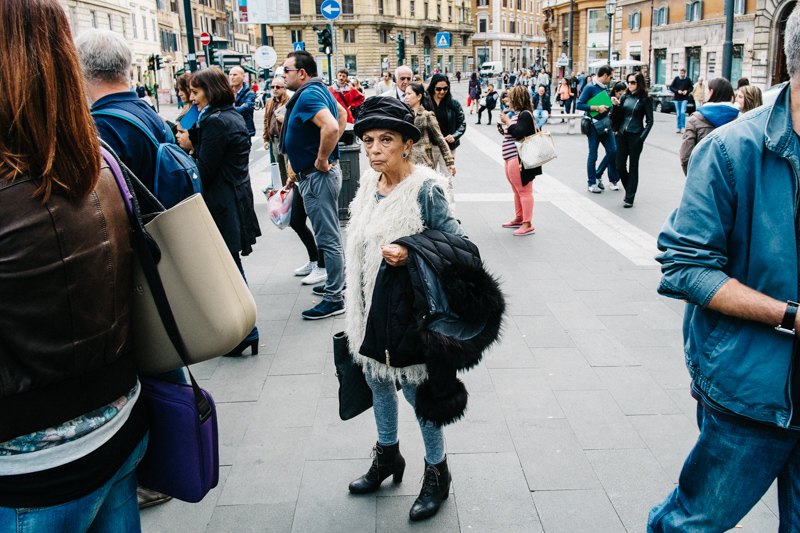person: (1, 1, 173, 533), (645, 1, 800, 533), (326, 92, 515, 525), (272, 48, 363, 322), (73, 30, 205, 216), (180, 64, 265, 253), (490, 84, 563, 243), (576, 61, 630, 197), (612, 69, 657, 214), (671, 70, 751, 141), (402, 81, 448, 164), (424, 68, 470, 143), (326, 63, 370, 120), (668, 68, 698, 134), (262, 77, 297, 122), (227, 64, 257, 115), (173, 70, 198, 118), (731, 78, 763, 115), (390, 66, 414, 91), (375, 68, 401, 86)
